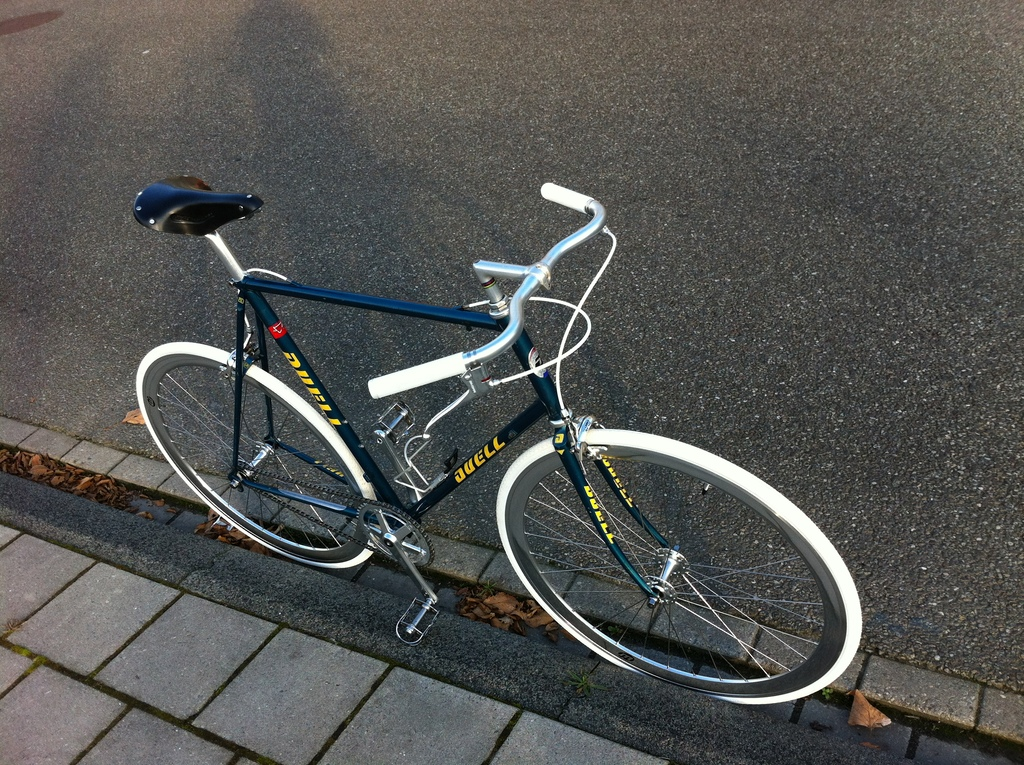Bike_toward: (116, 211, 888, 650)
